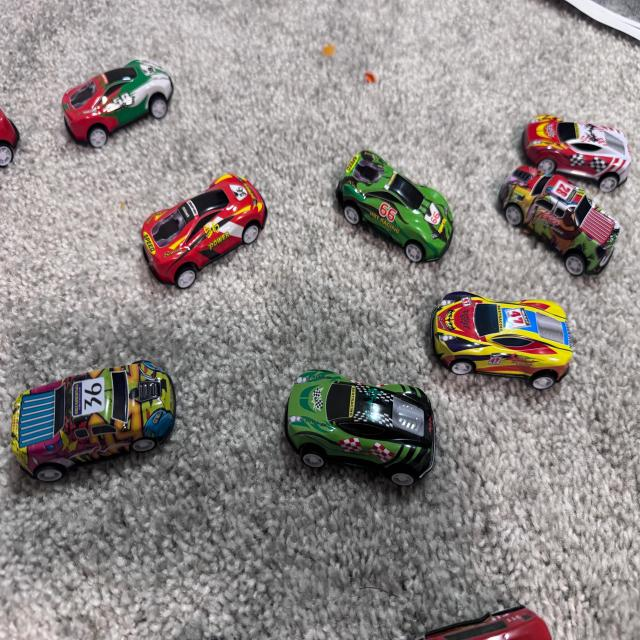Car: (491, 86, 640, 288), (271, 340, 440, 499), (313, 118, 465, 286), (410, 284, 599, 394), (112, 148, 262, 277), (20, 348, 154, 479), (57, 16, 172, 156), (398, 590, 594, 640)
